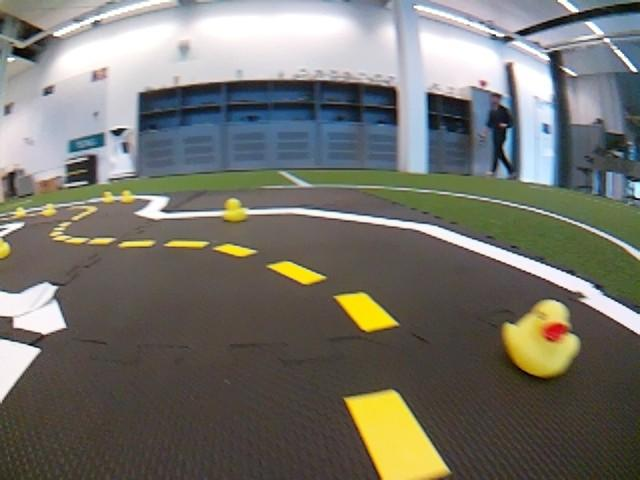Duckies: (501, 302, 577, 378), (222, 197, 248, 222), (0, 235, 10, 262), (41, 203, 56, 217), (119, 190, 135, 202), (100, 192, 115, 204), (14, 207, 25, 218)
